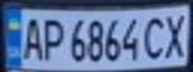4: (121, 15, 145, 62)
6: (63, 16, 87, 63), (103, 16, 124, 63)
8: (84, 16, 106, 63)
A: (18, 12, 45, 61)
C: (139, 12, 169, 61)
P: (39, 15, 66, 62)
X: (160, 11, 193, 60)
